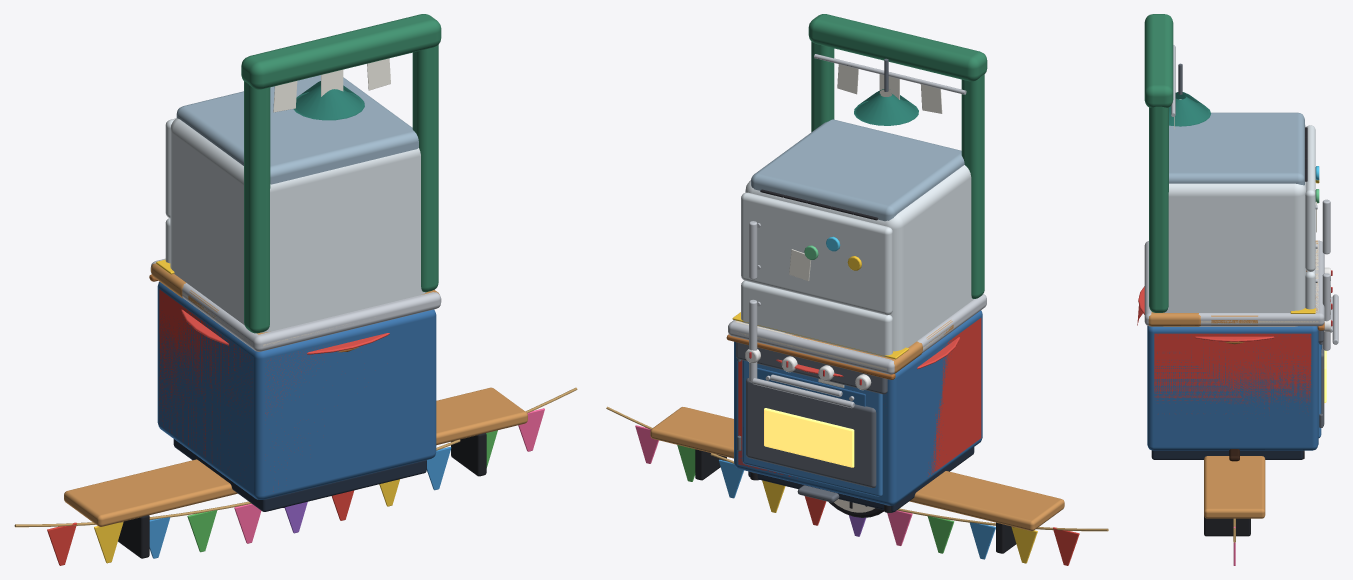
File: kitchen.glb
The picture shows the model from 3 angles, left to right: view 1: azimuth 30°, elevation 25°; view 2: azimuth 150°, elevation 25°; view 3: azimuth 270°, elevation 25°; orthographic projection. The views are drawn at different scales.
Visible parts, largest first — view 1: fridge, counter, pass, shelf, bunting, stove, table_cloth; view 2: fridge, stove, pass, counter, shelf, bunting; view 3: fridge, counter, stove, pass, shelf, table_cloth, assembly.
Boxes of the visible parts, left/top/right/bottom form: fridge: left=165, top=75, right=426, bottom=332; counter: left=149, top=263, right=439, bottom=509; pass: left=150, top=14, right=441, bottom=351; shelf: left=64, top=387, right=527, bottom=558; bunting: left=14, top=387, right=577, bottom=565; stove: left=159, top=289, right=426, bottom=511; table_cloth: left=181, top=309, right=389, bottom=354; fridge: left=741, top=119, right=973, bottom=387; stove: left=736, top=318, right=981, bottom=512; pass: left=728, top=14, right=987, bottom=374; counter: left=726, top=310, right=982, bottom=510; shelf: left=650, top=407, right=1064, bottom=553; bunting: left=606, top=406, right=1108, bottom=565; fridge: left=1163, top=112, right=1330, bottom=350; counter: left=1147, top=240, right=1332, bottom=458; stove: left=1151, top=267, right=1338, bottom=459; pass: left=1144, top=14, right=1324, bottom=326; shelf: left=1204, top=456, right=1265, bottom=536; table_cloth: left=1137, top=286, right=1330, bottom=341; assembly: left=1201, top=241, right=1318, bottom=322.
Size of the model in its own units: 3 by 2.69 by 1.12.
